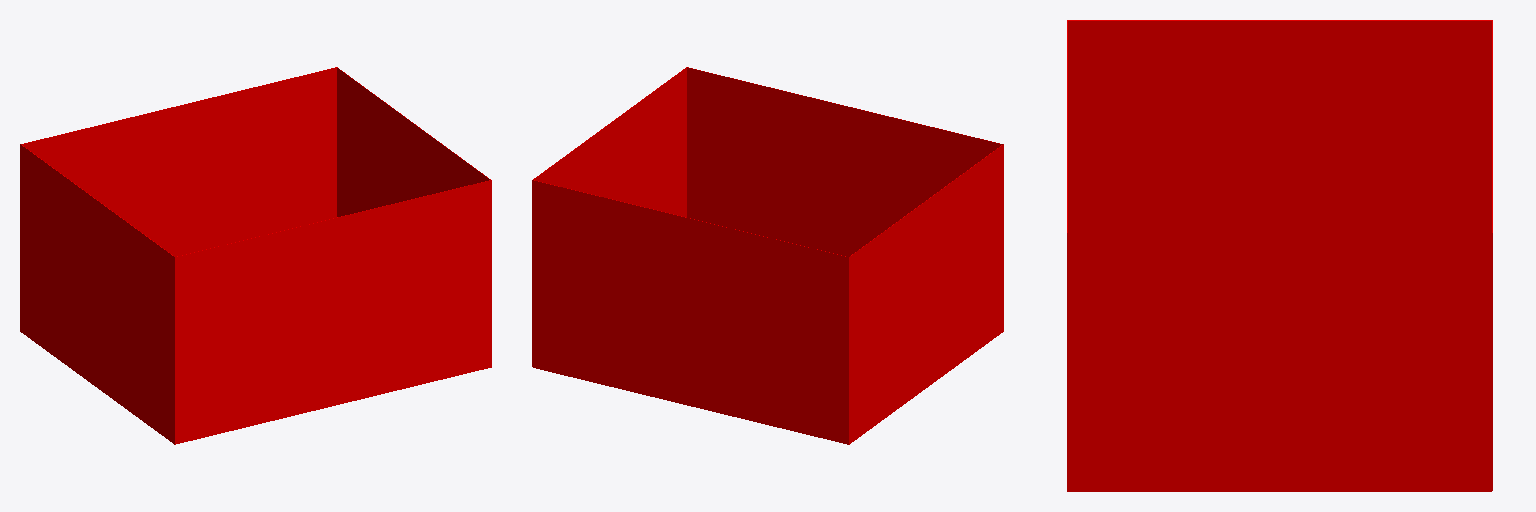
The robot description file, URDF, robot "square.urdf":
<?xml version="1.0" ?>
<robot name="square.urdf">
  <link name="baseLink">
    <contact>
      <lateral_friction value="1.0"/>
      <inertia_scaling value="3.0"/>
    </contact>
    <inertial>
      <origin rpy="0 0 0" xyz="0 0 0"/>
       <mass value=".1"/>
       <inertia ixx="1" ixy="0" ixz="0" iyy="1" iyz="0" izz="1"/>
    </inertial>
    <visual>
      <origin rpy="0 0 0" xyz="0 0 0"/>
      <geometry>
        <mesh filename="10.stl" scale="1 1 1" />
      </geometry>
      <material name="red">
        <color rgba="1 0 0 1"/>
      </material>
    </visual>
    <collision>
      <origin rpy="0 0 0" xyz="0 0 0"/>
      <geometry>
        <mesh filename="10_convex.obj" scale="1 1 1" />
      </geometry>
    </collision>
  </link>
</robot>

--- What the picture shows (computed from the rendered views, not written in the file) ---
The picture shows the robot from 3 angles, left to right: view 1: azimuth 30°, elevation 25°; view 2: azimuth 150°, elevation 25°; view 3: azimuth 270°, elevation 25°; orthographic projection.
Robot: square.urdf — 1 links, 0 joints (none); root link baseLink; default pose: all joints at 0.
Links seen in each view (by area): view 1: baseLink; view 2: baseLink; view 3: baseLink.
Boxes of the visible links, <box> form: baseLink: <box>20,67,491,444</box>; baseLink: <box>532,67,1003,444</box>; baseLink: <box>1067,20,1492,491</box>.
Bounding box of the posed robot: 0.7764 × 0.6557 × 0.4392 m (x, y, z).
1 mesh visuals loaded from 1 distinct referenced files (1 binary STL).